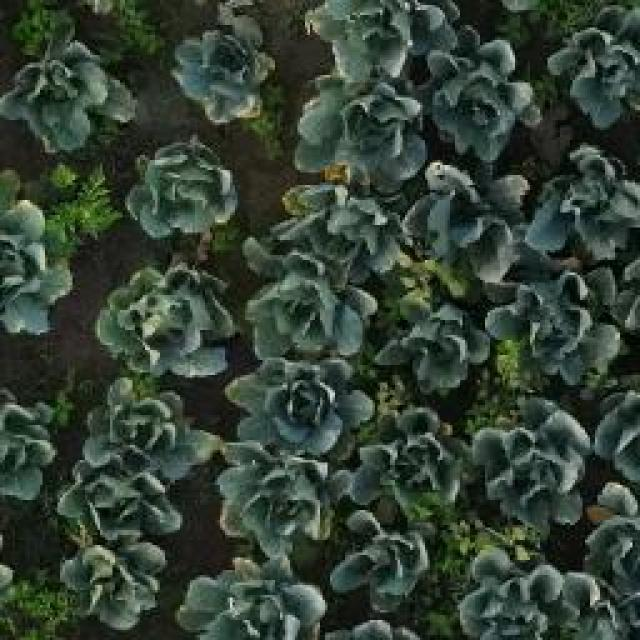cabbage: (471, 411, 587, 538), (221, 434, 337, 560), (254, 254, 381, 367), (102, 268, 234, 374), (234, 361, 378, 458), (294, 81, 422, 187), (345, 414, 474, 516), (86, 381, 219, 479), (125, 135, 235, 253), (55, 512, 165, 630), (413, 167, 522, 286), (7, 42, 132, 144), (501, 271, 623, 374), (274, 180, 407, 274), (178, 555, 320, 640), (530, 151, 640, 259), (430, 57, 540, 162), (460, 545, 580, 640), (318, 0, 446, 79), (0, 194, 69, 340), (380, 299, 486, 394), (330, 514, 432, 610), (64, 456, 183, 532), (552, 28, 640, 130), (171, 26, 270, 115), (0, 399, 63, 501)
